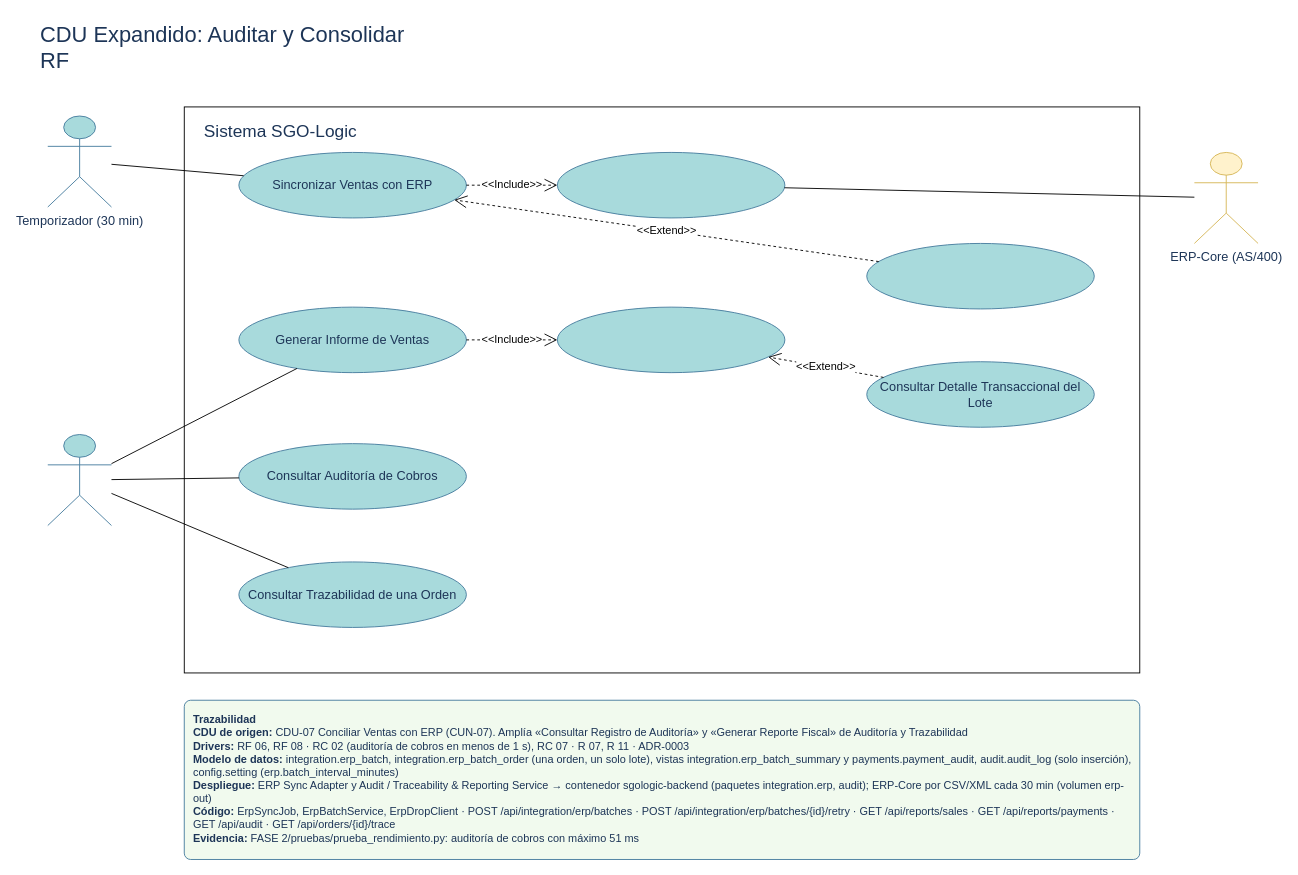
This 1298x875 diagram has some shape labels left out. The centre of each missing label's shape, as x and y in pixels:
"Conciliar con ERP" goes at point (670, 339).
"Finanzas" goes at point (79, 480).
"Generar Archivo CSV/XML" goes at point (670, 185).
"Reintentar Entrega del Lote" goes at point (980, 276).
